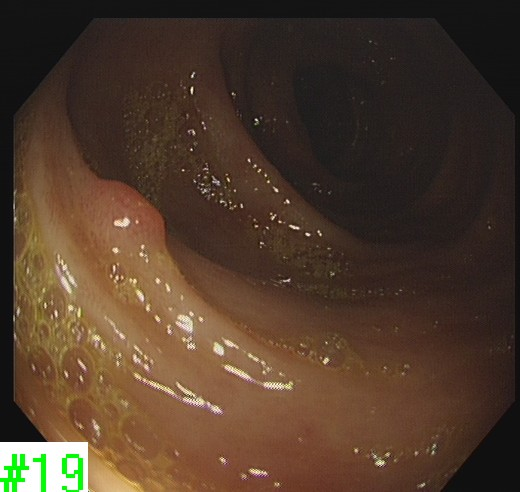adenoma: (91, 176, 171, 260)
